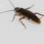cockroach: (14, 6, 40, 24)
